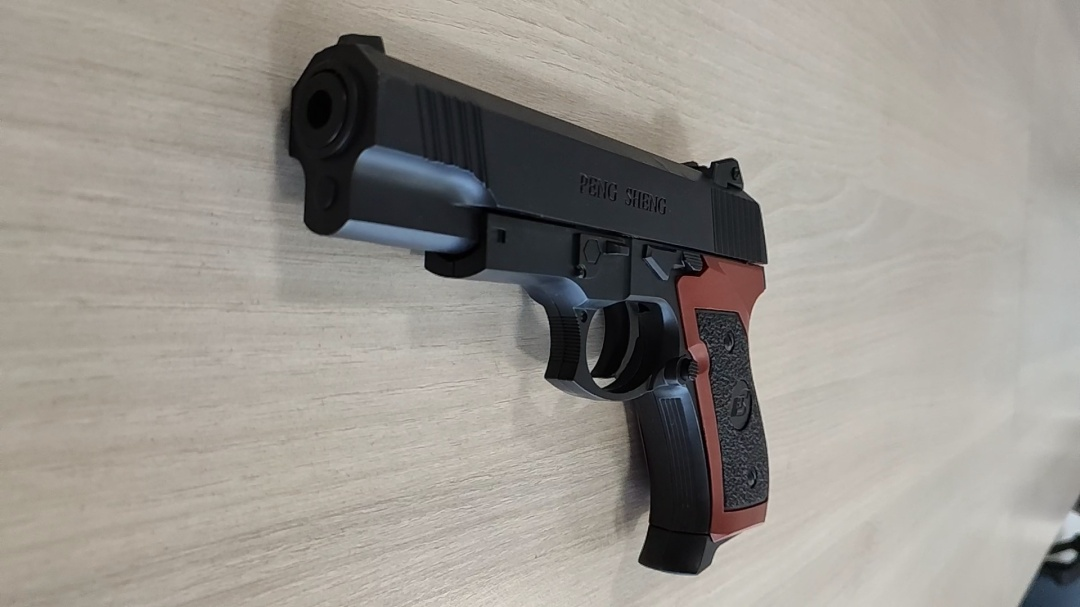gun: (284, 31, 774, 578)
